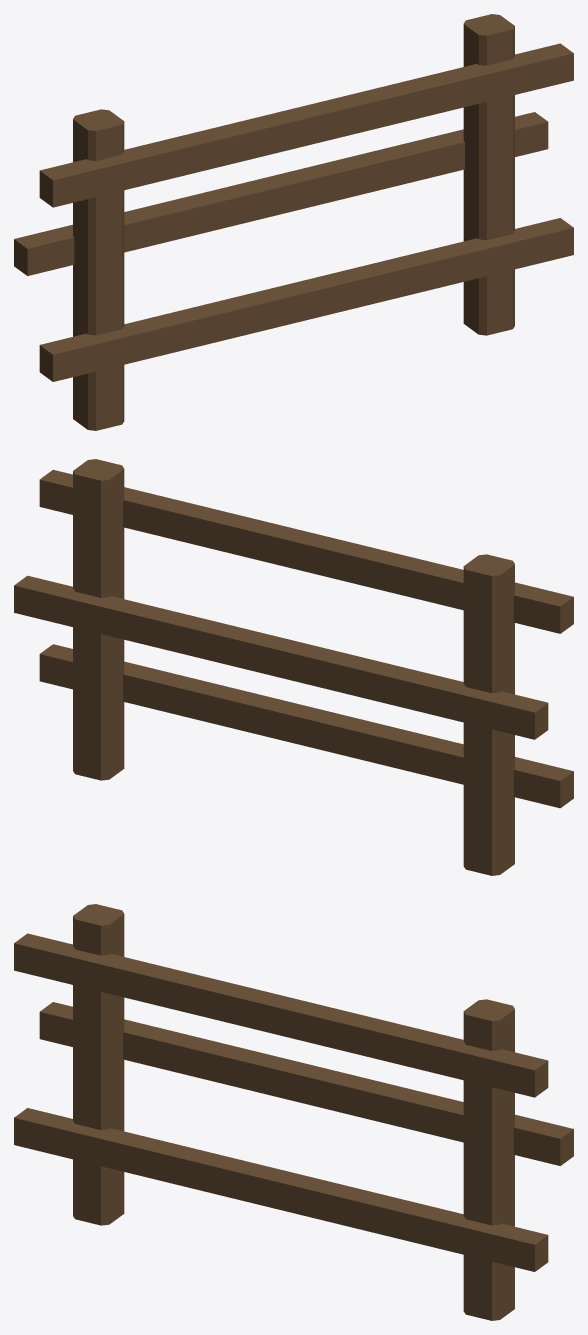
The model's file is fence_rail_lod0.glb.
The picture shows the model from 3 angles, top to bottom: view 1: azimuth 30°, elevation 25°; view 2: azimuth 150°, elevation 25°; view 3: azimuth 330°, elevation 25°; orthographic projection.
Parts seen in each view (by area): view 1: fence_rail; view 2: fence_rail; view 3: fence_rail.
Boxes of the visible parts, x1,y1,x2,y2 form: fence_rail: (14, 14, 573, 430); fence_rail: (14, 459, 573, 875); fence_rail: (14, 904, 573, 1320).
Size of the model in its own units: 2 by 1.1 by 0.26.
